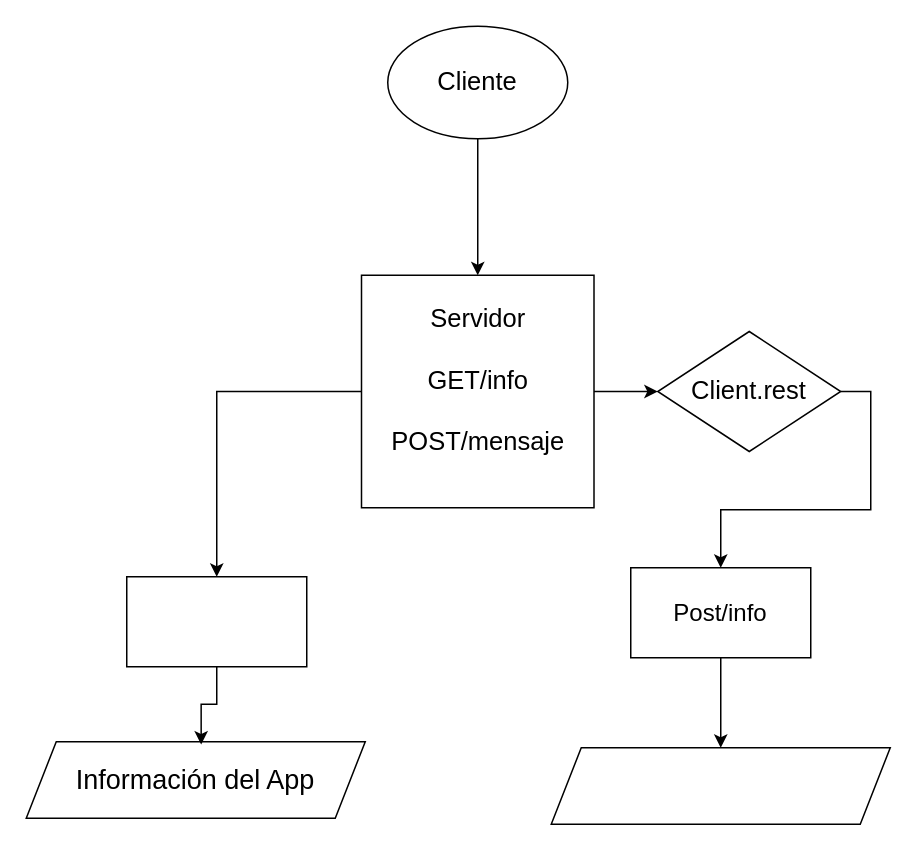
Image size: 917x851. Some labels were removed from this diagram. The shapes that lost their labels are listed below. From the top down, each one's centre as x and y in pixels, then its label:
pixel 216 621: GET/info
pixel 720 785: Mensaje personalizado
